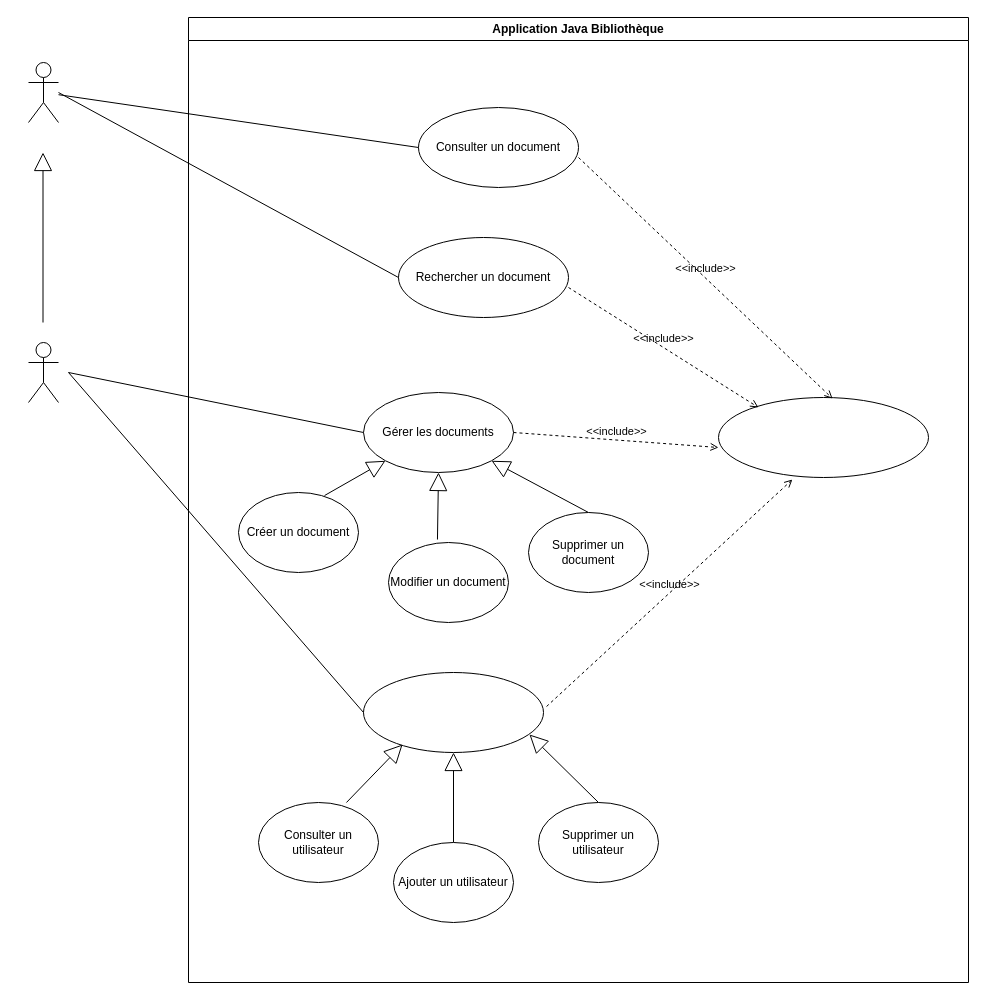
Image size: 986x1000. Some labels were removed from this diagram. The shapes that lost their labels are listed below. From the top down, each one's centre as x and y in pixels, then its label:
point (43, 92): Utilisateur
point (43, 372): Admin
point (823, 437): Authentification
point (453, 712): Gérer les utilisateurs
